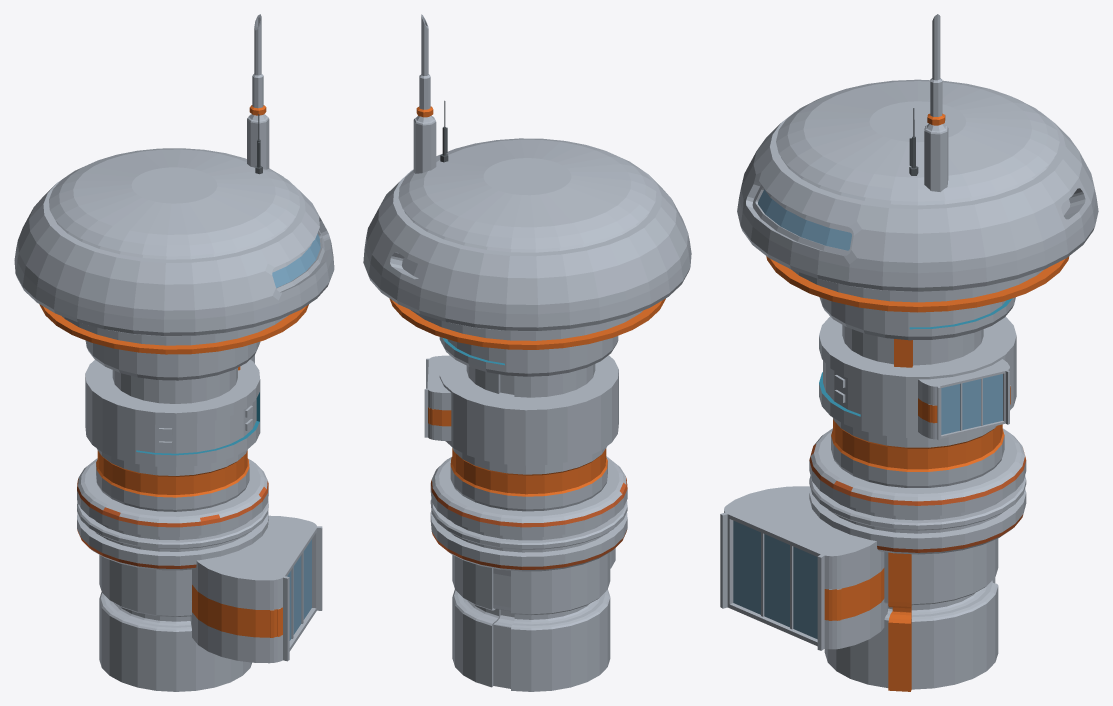
Rendered from Building_03.fbx.
The picture shows the model from 3 angles, left to right: view 1: azimuth 30°, elevation 25°; view 2: azimuth 150°, elevation 25°; view 3: azimuth 270°, elevation 25°; orthographic projection. The views are drawn at different scales.
Visible parts, largest first — view 1: Building_03; view 2: Building_03; view 3: Building_03.
Part boxes in pixels (x1=…): Building_03: x1=14, y1=14, x2=334, y2=691; Building_03: x1=363, y1=14, x2=691, y2=691; Building_03: x1=720, y1=14, x2=1098, y2=691.
Bounding box in the file's own units: 1100 × 2322 × 1151.
2 materials, 2 textured.
